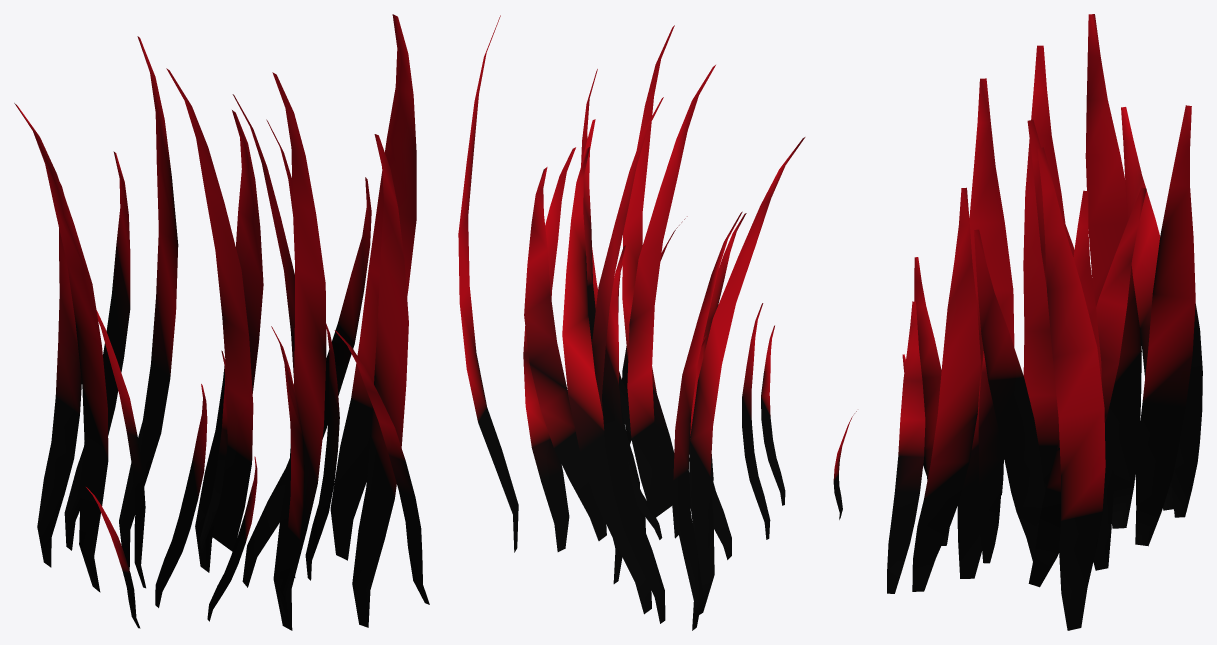
Rendered from Grass4.fbx.
3 views of the same model, side by side, from view 1: azimuth 30°, elevation 25°; view 2: azimuth 150°, elevation 25°; view 3: azimuth 270°, elevation 25° (orthographic). The views are drawn at different scales.
Visible parts, largest first — view 1: Plane.029; view 2: Plane.029; view 3: Plane.029.
Boxes of the visible parts, x1,y1,x2,y2 form: Plane.029: [14, 14, 429, 630]; Plane.029: [458, 15, 856, 630]; Plane.029: [887, 14, 1202, 630].
Size of the model in its own units: 163 by 227 by 130.
